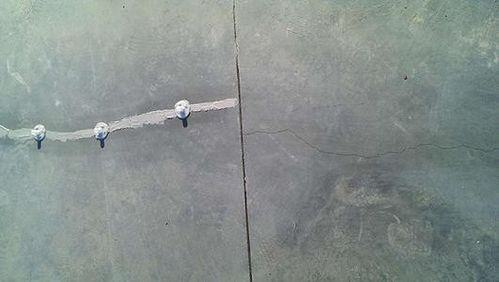Spalling: (1, 95, 237, 142), (241, 127, 499, 160)
